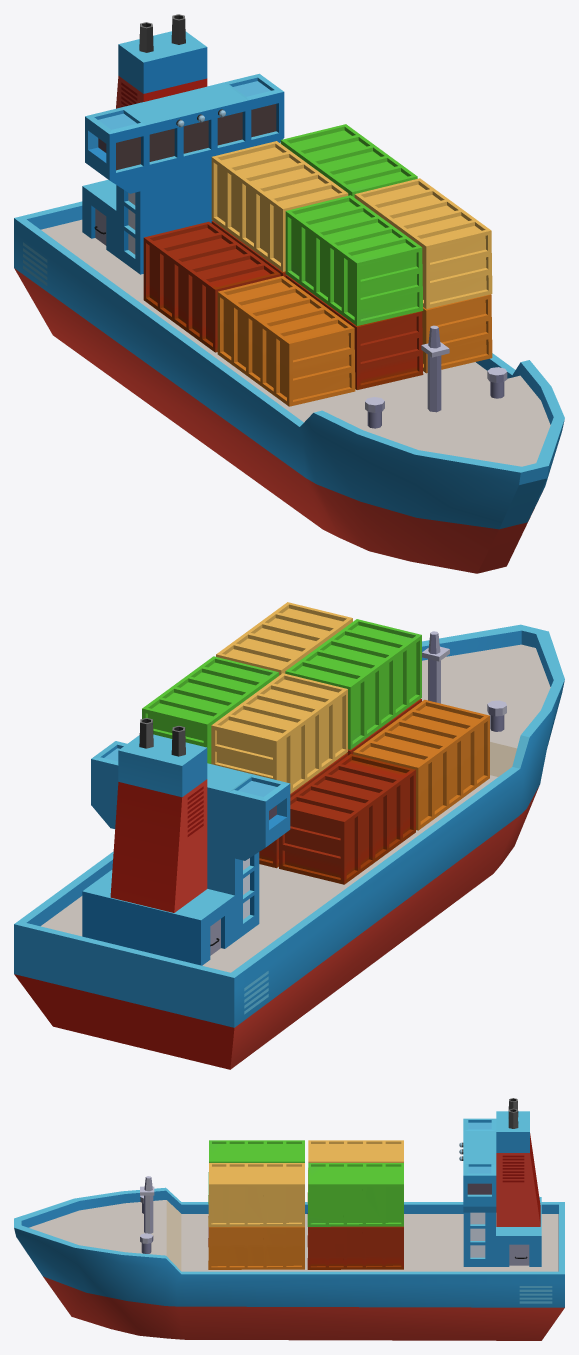
The model's file is LunChuan1_Mo.fbx.
The picture shows the model from 3 angles, top to bottom: view 1: azimuth 30°, elevation 25°; view 2: azimuth 150°, elevation 25°; view 3: azimuth 270°, elevation 25°; orthographic projection. The views are drawn at different scales.
Parts seen in each view (by area): view 1: Lv4_scene_ship001_0; view 2: Lv4_scene_ship001_0; view 3: Lv4_scene_ship001_0.
Part boxes in pixels (bbox=[...]): Lv4_scene_ship001_0: bbox=[14, 14, 564, 573]; Lv4_scene_ship001_0: bbox=[14, 602, 564, 1069]; Lv4_scene_ship001_0: bbox=[14, 1098, 564, 1340].
Bounding box in the file's own units: 636 × 846 × 2045.
1 material, 1 textured.
